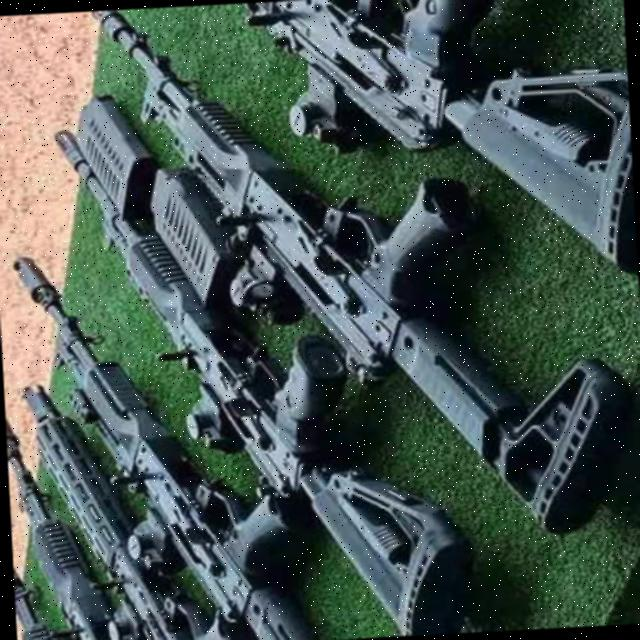Automaticrifle: (126, 0, 593, 539), (50, 73, 476, 632), (261, 0, 638, 303), (15, 375, 218, 640)
